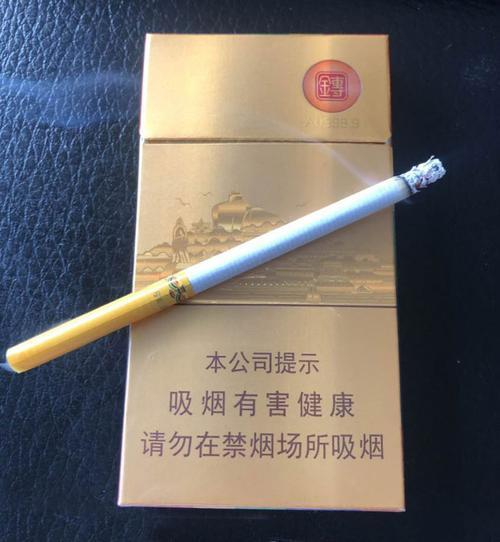smoke: (6, 157, 448, 372)
